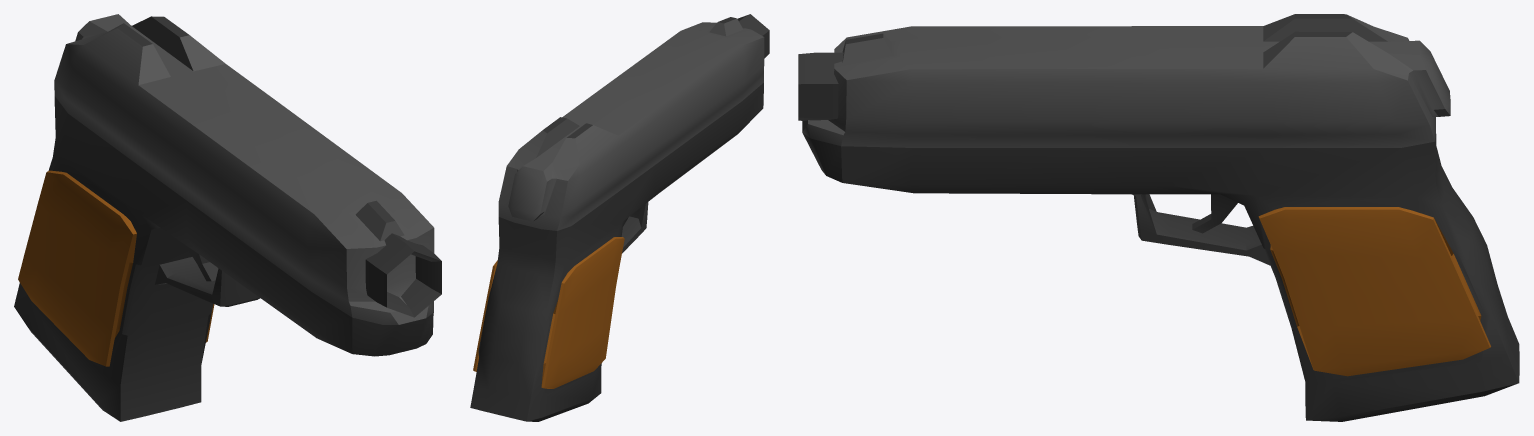
Rendered from arma_1_01.fbx.
3 views of the same model, side by side, from view 1: azimuth 30°, elevation 25°; view 2: azimuth 150°, elevation 25°; view 3: azimuth 270°, elevation 25° (orthographic). The views are drawn at different scales.
Parts seen in each view (by area): view 1: 1; view 2: 1; view 3: 1.
Part boxes in pixels (x1,y1,x2,y2): 1: (14, 14, 441, 421); 1: (470, 14, 769, 421); 1: (798, 14, 1519, 421).
Size of the model in its own units: 6.07 by 20.68 by 35.81.
